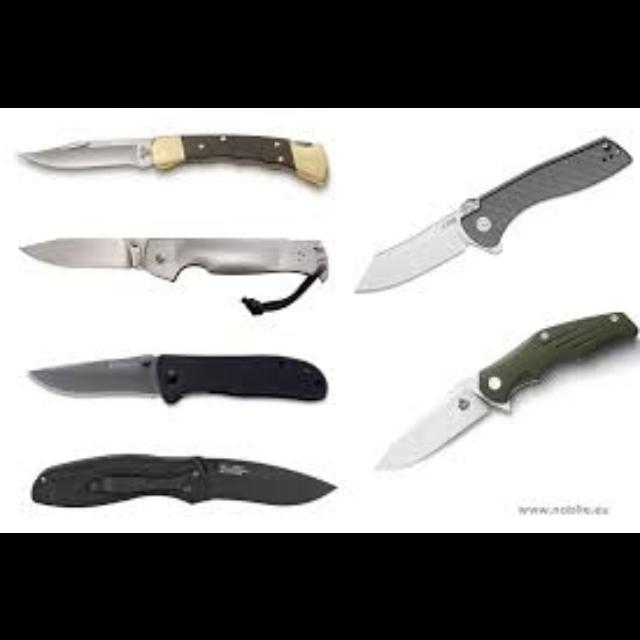Knife: (352, 133, 632, 293), (372, 310, 638, 470), (16, 236, 328, 314), (30, 452, 338, 506), (16, 130, 328, 183), (26, 352, 328, 402)
